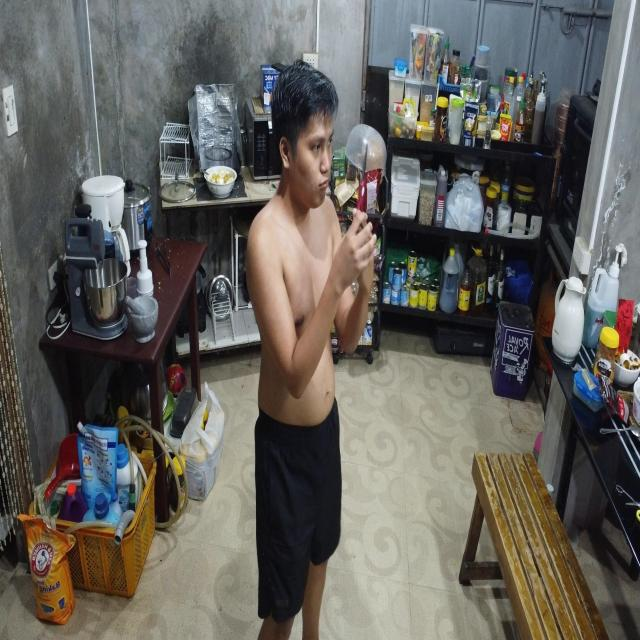scissor: (358, 143, 370, 223)
